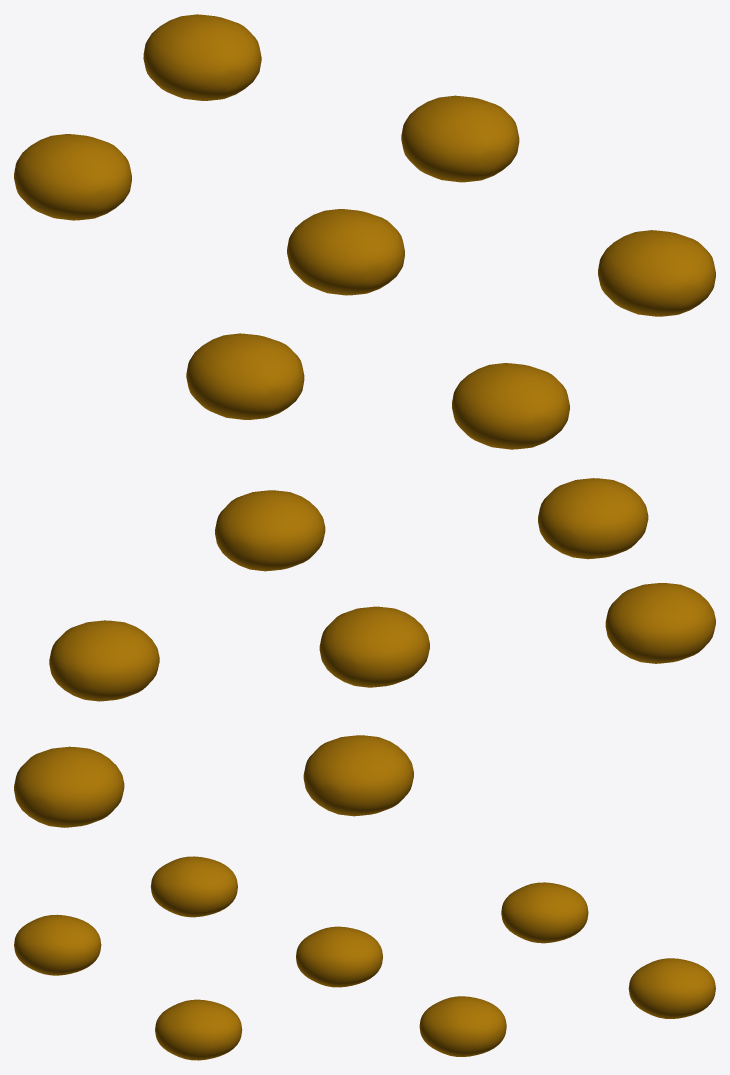
The model's file is Tool_Feed.fbx.
3 renders of one model, top to bottom at view 1: azimuth 30°, elevation 25°; view 2: azimuth 150°, elevation 25°; view 3: azimuth 270°, elevation 25°, orthographic. The views are drawn at different scales.
Visible parts, largest first — view 1: pSphere8; view 2: pSphere8; view 3: pSphere8.
Part boxes in pixels (x1,y1,x2,y2): pSphere8: (14,14,715,449); pSphere8: (14,478,715,827); pSphere8: (14,856,715,1060).
Bounding box in the file's own units: 4.79 × 0.6228 × 7.97.
